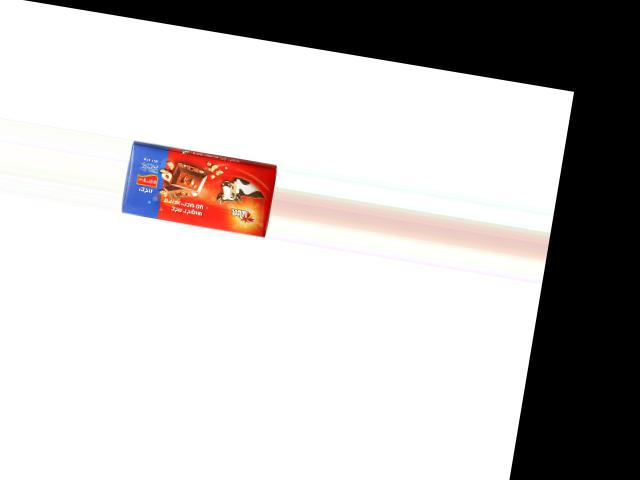chocolate: (122, 134, 278, 236)
